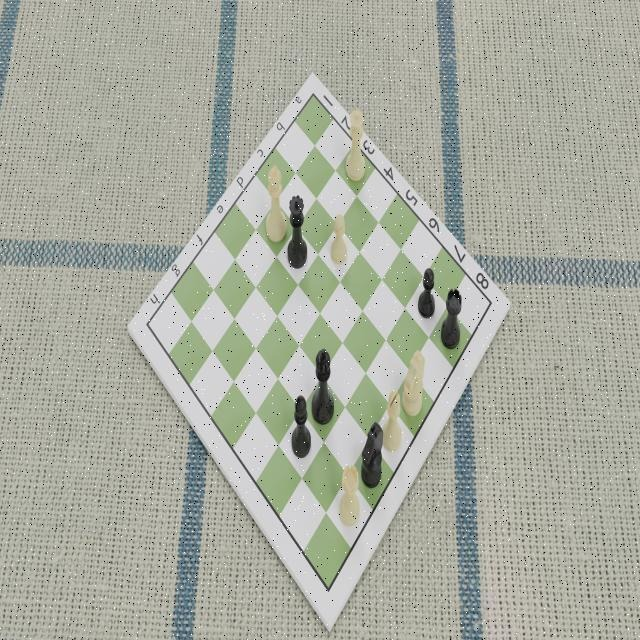black-bishop: (291, 392, 313, 459)
black-king: (310, 347, 335, 425)
black-knight: (359, 421, 384, 491)
black-pawn: (417, 267, 436, 319)
black-queen: (286, 191, 310, 268)
black-rook: (439, 285, 463, 354)
white-bishop: (380, 383, 404, 454)
white-king: (264, 164, 290, 244)
white-knight: (401, 347, 427, 419)
white-pawn: (329, 213, 349, 267)
white-queen: (344, 105, 367, 182)
white-rook: (338, 464, 361, 528)
